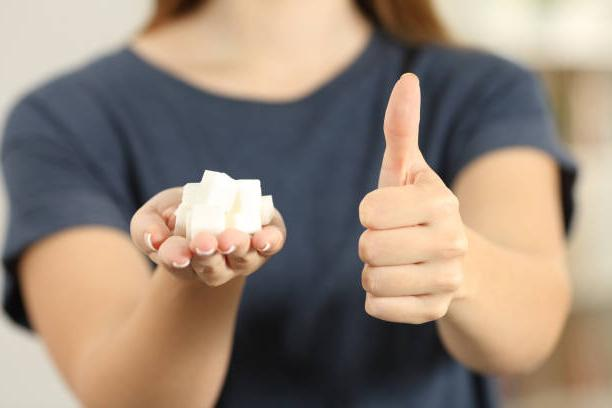thumbsup: (356, 70, 470, 327)
